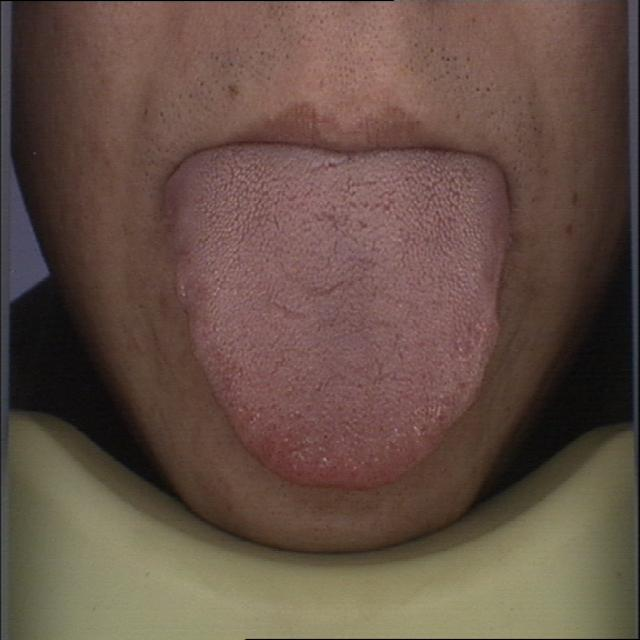tongue: (162, 141, 516, 500)
